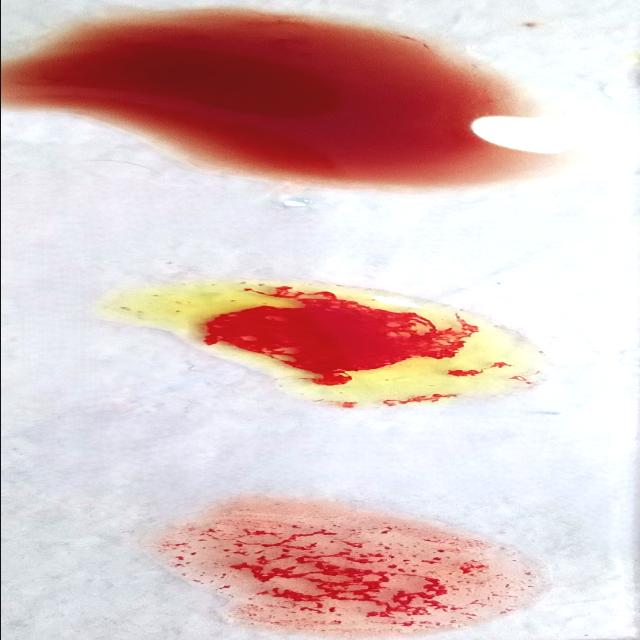B: (109, 277, 546, 403)
D: (155, 511, 544, 634)
